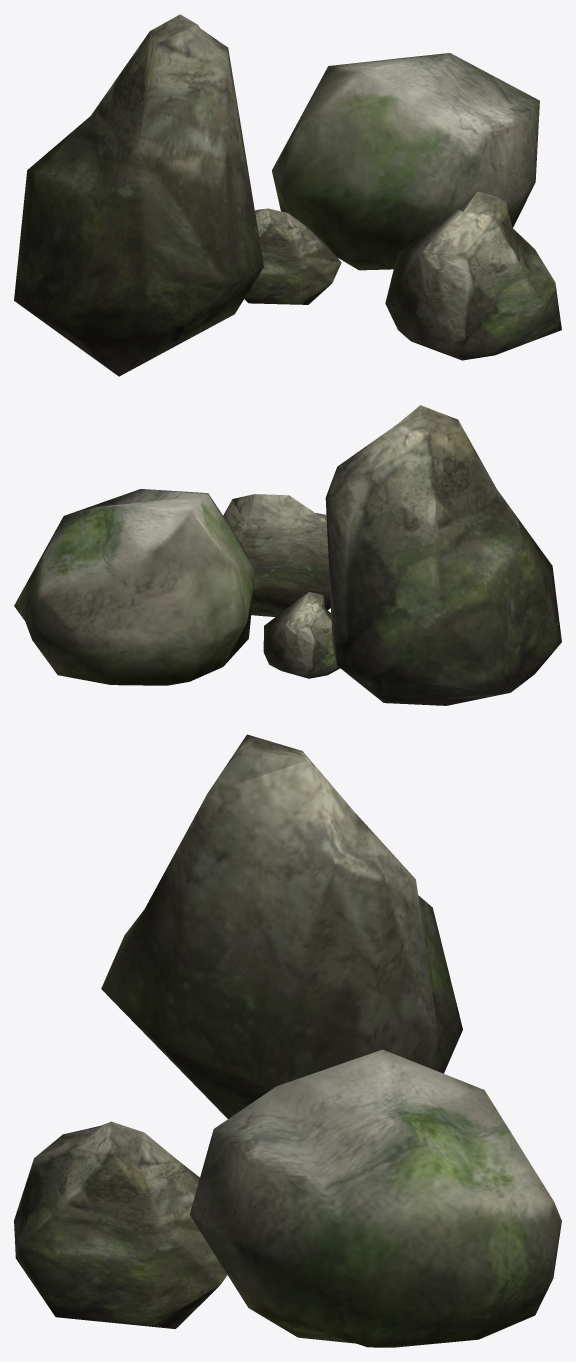
The model's file is rock_group_5_sphere.fbx.
3 renders of one model, top to bottom at view 1: azimuth 30°, elevation 25°; view 2: azimuth 150°, elevation 25°; view 3: azimuth 270°, elevation 25°, orthographic. The views are drawn at different scales.
Visible parts, largest first — view 1: rock_1, rock_2, rock_3, rock_4; view 2: rock_1, rock_2, rock_3, rock_4; view 3: rock_1, rock_2, rock_3.
Part boxes in pixels (x1=…): rock_1: x1=14, y1=14, x2=263, y2=376; rock_2: x1=272, y1=53, x2=539, y2=270; rock_3: x1=385, y1=191, x2=561, y2=360; rock_4: x1=244, y1=208, x2=341, y2=304; rock_1: x1=325, y1=405, x2=561, y2=705; rock_2: x1=14, y1=489, x2=255, y2=685; rock_3: x1=223, y1=494, x2=330, y2=616; rock_4: x1=263, y1=592, x2=340, y2=678; rock_1: x1=101, y1=734, x2=462, y2=1118; rock_2: x1=189, y1=1049, x2=561, y2=1347; rock_3: x1=14, y1=1121, x2=227, y2=1328.
Size of the model in its own units: 993 by 606 by 723.
1 material, 1 textured.
